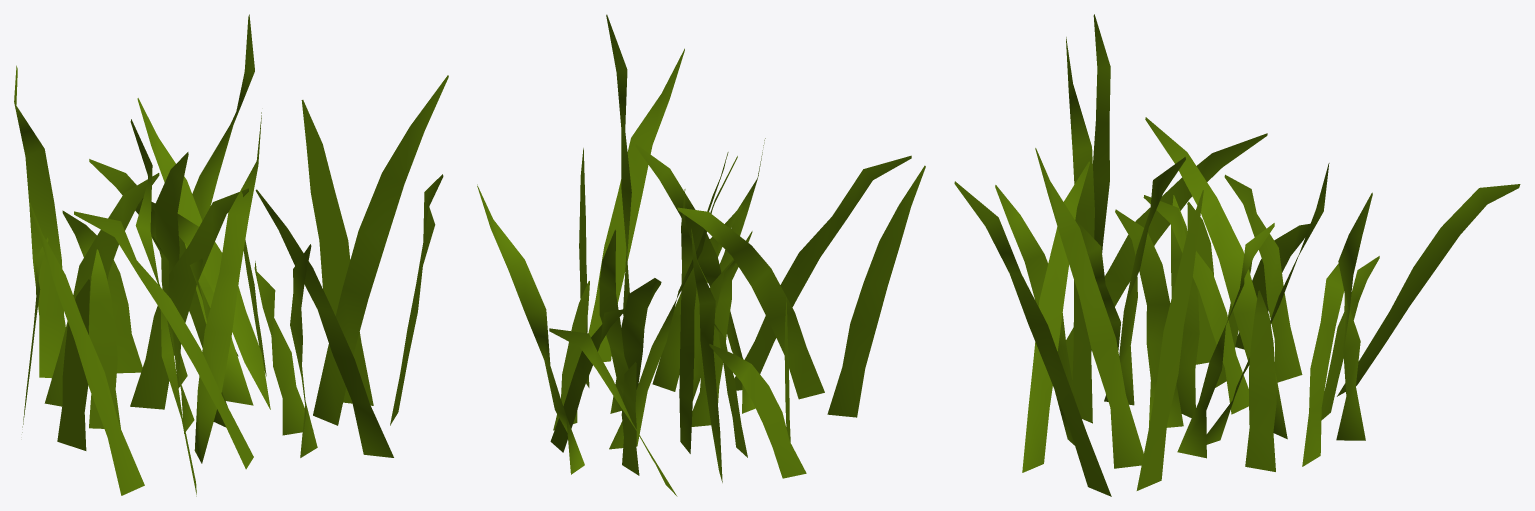
Rendered from GrassDence01.fbx.
3 renders of one model, left to right at view 1: azimuth 30°, elevation 25°; view 2: azimuth 150°, elevation 25°; view 3: azimuth 270°, elevation 25°, orthographic. The views are drawn at different scales.
Visible parts, largest first — view 1: GrassDence01_LOD0; view 2: GrassDence01_LOD0; view 3: GrassDence01_LOD0.
Boxes of the visible parts, <box> form: GrassDence01_LOD0: <box>14,14,448,496</box>; GrassDence01_LOD0: <box>477,14,925,496</box>; GrassDence01_LOD0: <box>954,14,1520,496</box>.
Size of what is drawn, in the model's own units: 60.52 by 53.97 by 77.96.
